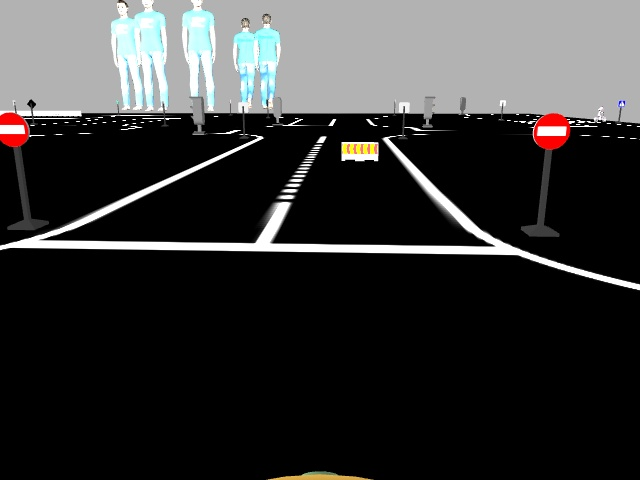ClosedRoadStand: (341, 143, 378, 159)
NoEntry: (535, 114, 568, 149), (0, 113, 30, 145)
